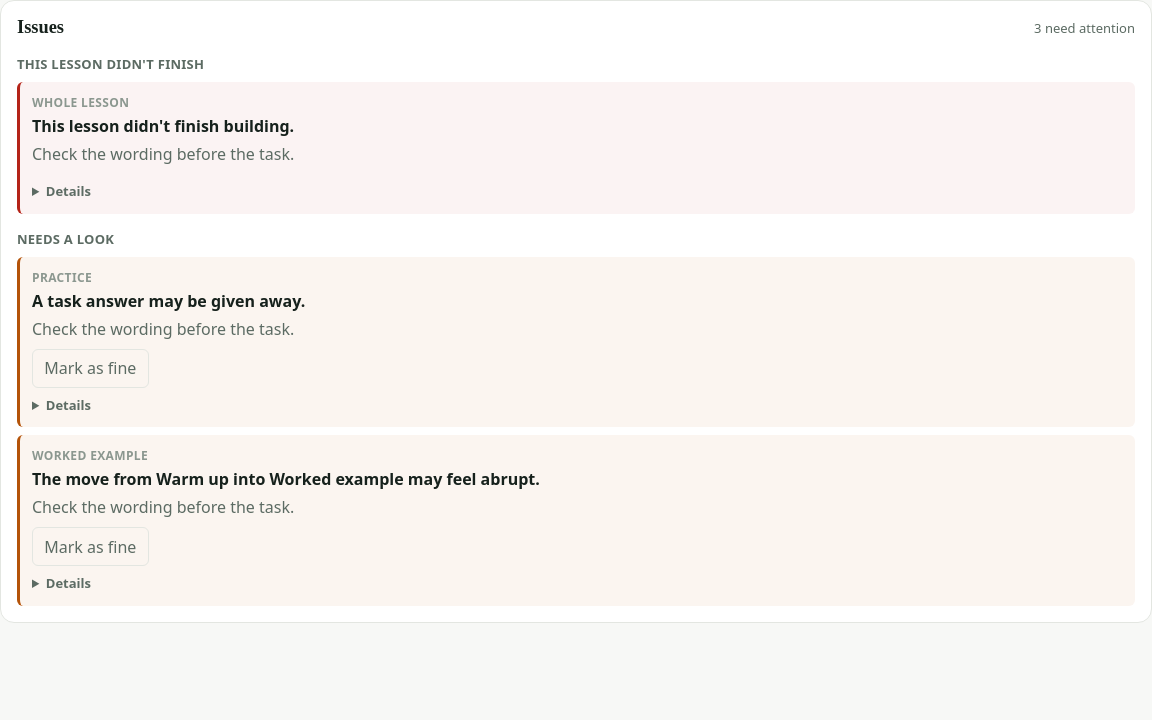
LessonIssuesPanel › marks an item as fine through the API and moves it to the collapsed group
Expected: the text with test id "attention-count" reads "3 need attention", left=1034, top=19, right=1135, bottom=37
Click the button "Mark as fine" below "Practice". click: (90, 368)
box: left=32, top=349, right=148, bottom=388
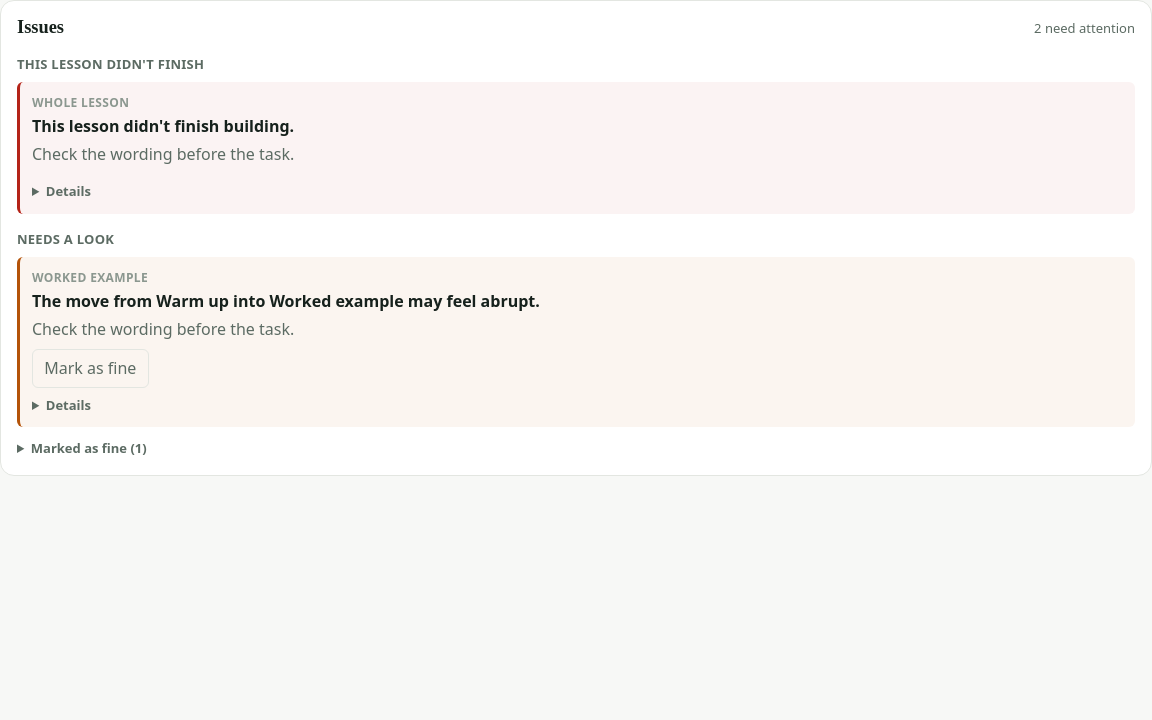
Expected: the text with test id "attention-count" reads "2 need attention", left=1034, top=19, right=1135, bottom=37
Expected: the text "A task answer may be given away." is gone
Expected: the heading "Marked as fine (1)" is shown, left=31, top=439, right=147, bottom=457
